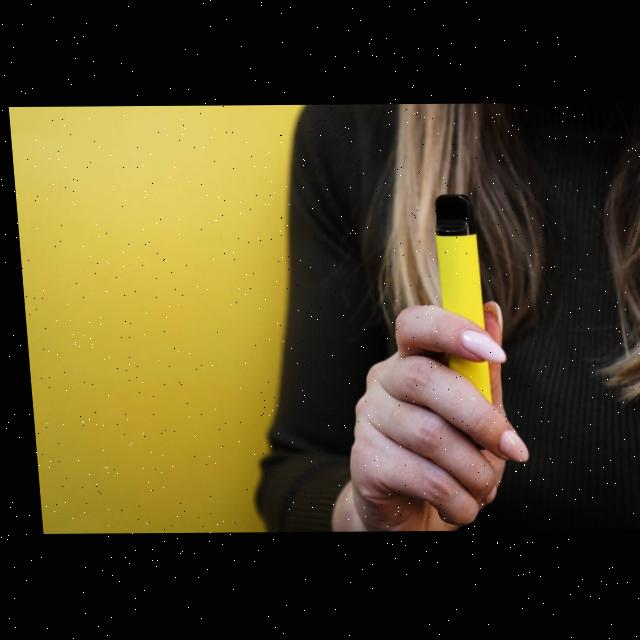vape: (429, 193, 486, 406)
